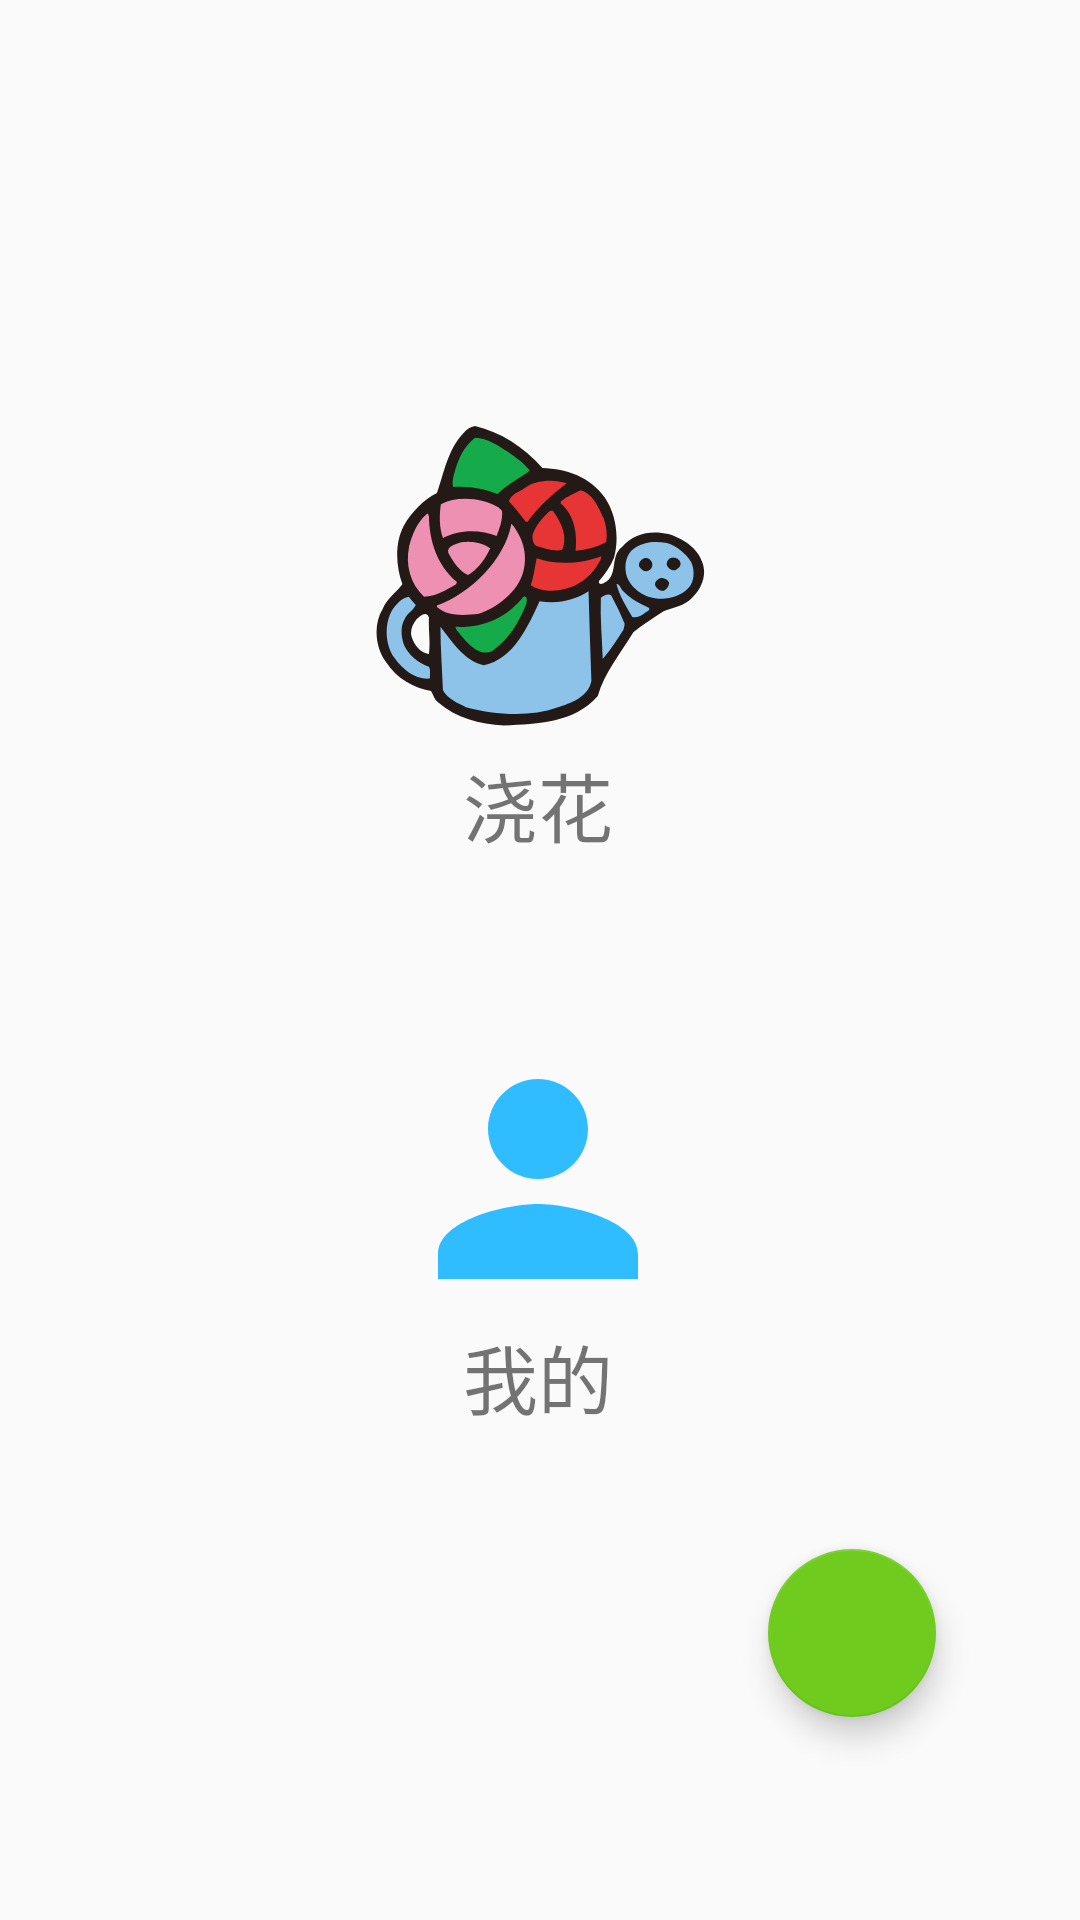

Named icons in this screenshot (1080 x 1920) and their bounding boxes, [x1,y1,x2,y2]:
person: [438,1079,638,1279]
